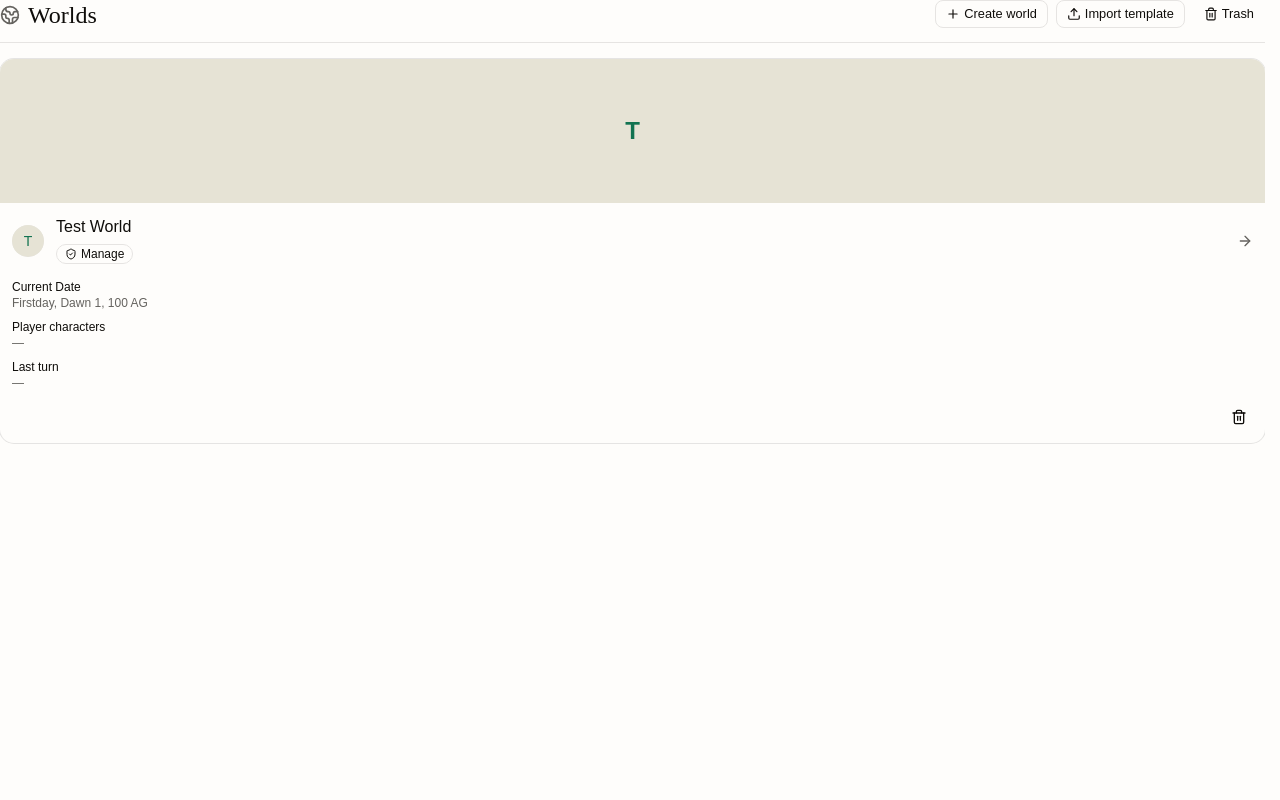
it: WorldListPage › shows confirm dialog when move to trash button is clicked
Expected: the heading "Test World" is shown, [56,218,131,235]
Click the button named "Move Test World to trash". click: click(1239, 417)
box: [1225,403,1253,431]
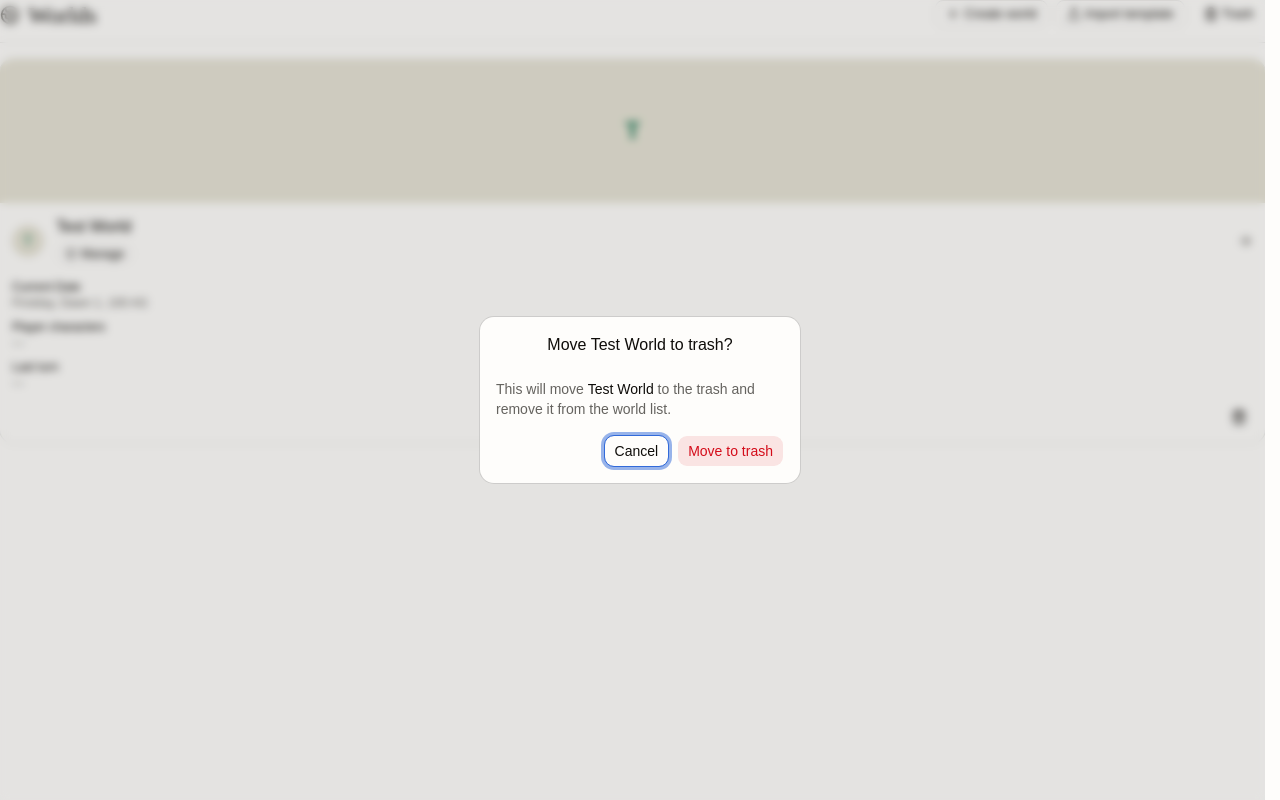
Now the dialog "Move Test World to trash?" is shown, box [480,317,800,483]
